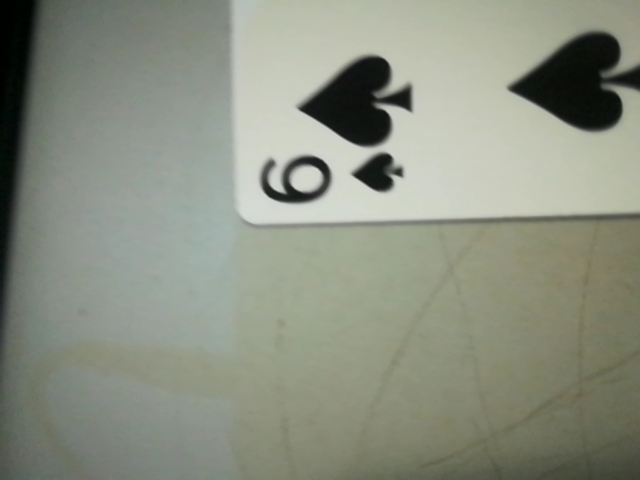ht 6: (243, 135, 417, 221)
